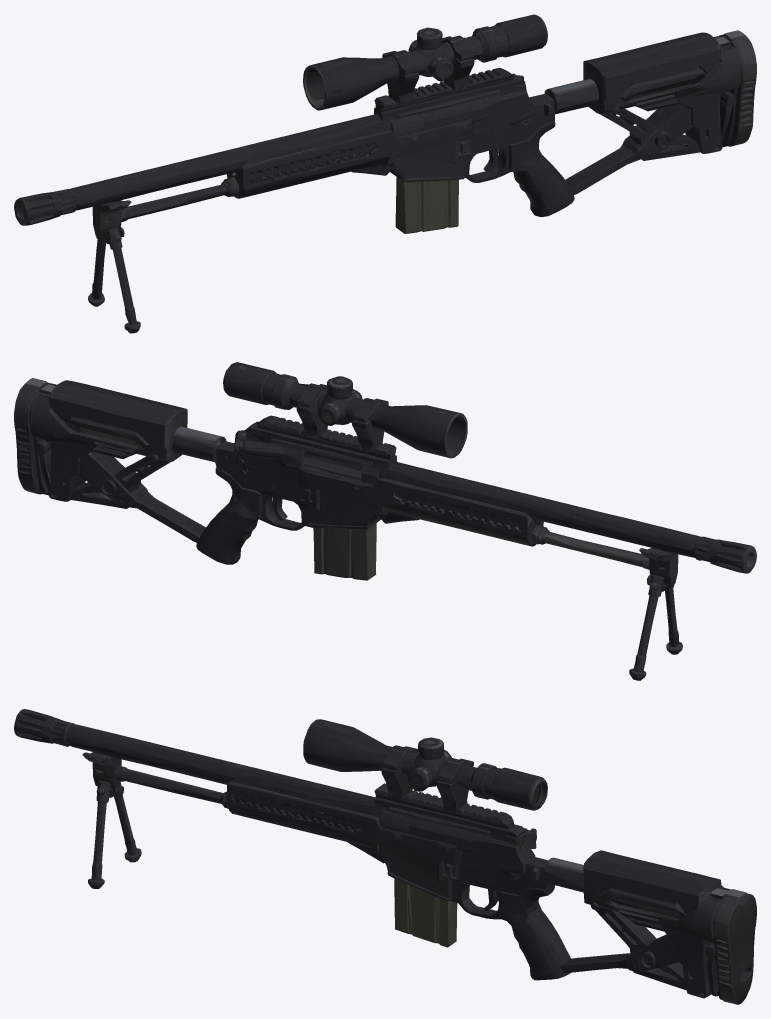
Rendered from sniper_rifle.glb.
The picture shows the model from 3 angles, top to bottom: view 1: azimuth 30°, elevation 25°; view 2: azimuth 150°, elevation 25°; view 3: azimuth 330°, elevation 25°; orthographic projection.
Parts seen in each view (by area): view 1: mesh_node; view 2: mesh_node; view 3: mesh_node.
Part boxes in pixels (left/top/right/bottom): mesh_node: left=14, top=14, right=756, bottom=333; mesh_node: left=14, top=362, right=756, bottom=680; mesh_node: left=14, top=709, right=756, bottom=1004.
Bounding box in the file's own units: 1.9 × 0.5242 × 0.2032.
1 material, 1 textured.
